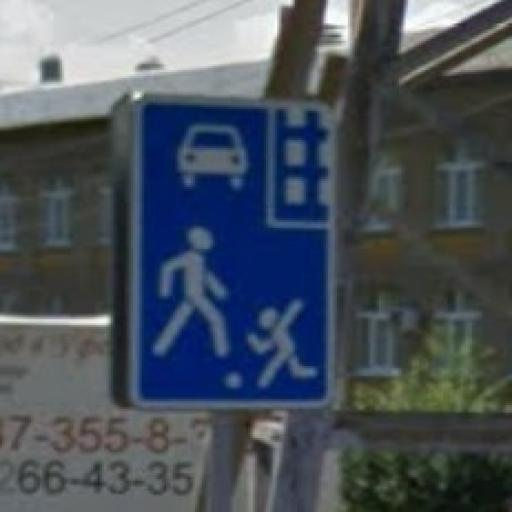traffic_sign: (127, 92, 340, 412)
